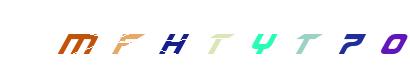7: (261, 0, 341, 80)
F: (77, 0, 157, 80)
H: (156, 0, 236, 80)
M: (39, 0, 119, 80)
O: (329, 0, 409, 80)
T: (163, 0, 243, 80), (223, 0, 303, 80)
Y: (220, 0, 300, 80)
